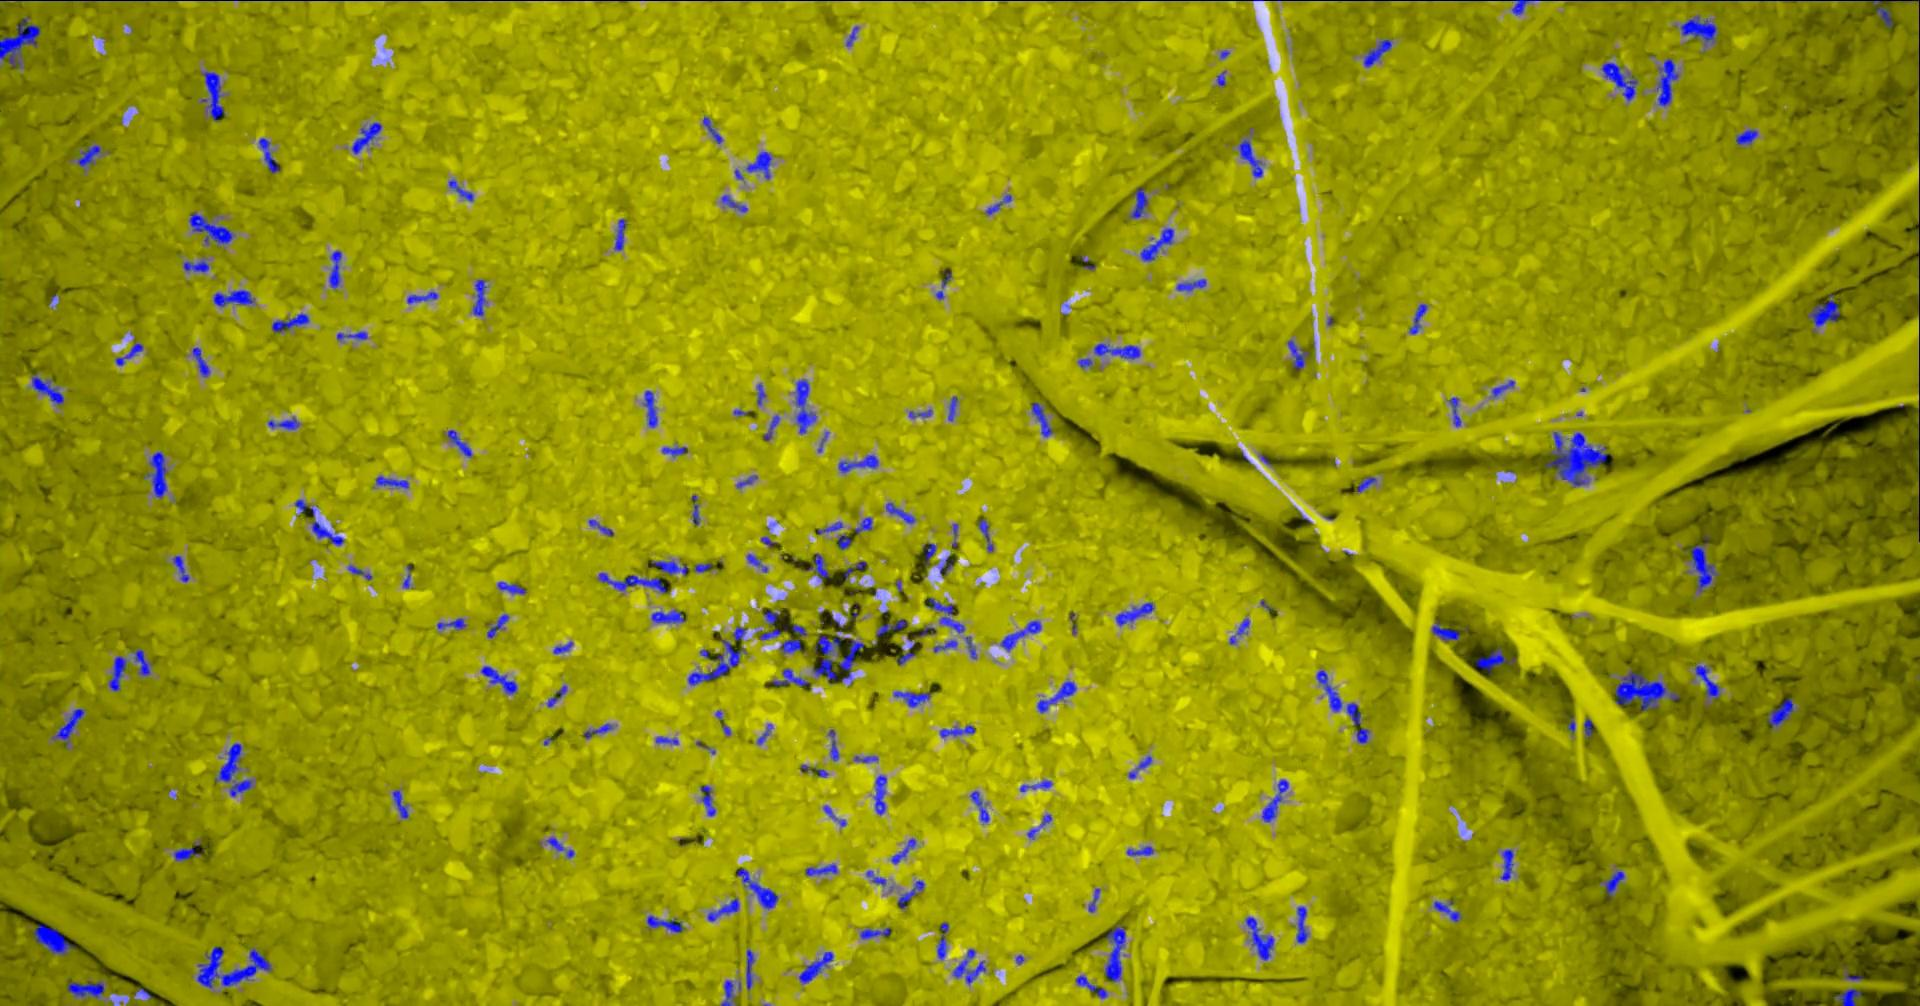ant: (687, 639, 744, 685), (295, 499, 343, 545), (0, 15, 41, 67), (215, 743, 251, 796), (811, 634, 848, 683), (735, 868, 777, 909), (1685, 544, 1716, 592), (189, 211, 234, 244), (1865, 0, 1919, 27), (598, 572, 665, 592), (1601, 62, 1637, 100), (926, 597, 964, 633), (32, 923, 74, 954), (1001, 620, 1040, 652), (1244, 916, 1272, 960), (952, 948, 985, 984), (1037, 681, 1076, 713), (52, 708, 84, 746), (1103, 925, 1125, 981), (201, 71, 225, 121), (795, 379, 817, 433), (797, 951, 833, 983), (1261, 779, 1288, 821), (1140, 227, 1173, 260), (143, 451, 166, 498), (1316, 669, 1341, 711), (1476, 647, 1515, 673), (1807, 293, 1839, 326), (30, 373, 63, 405), (838, 639, 863, 680), (1656, 58, 1677, 105), (480, 666, 516, 694), (1680, 15, 1716, 42), (350, 122, 381, 152), (1238, 138, 1262, 177), (1115, 602, 1154, 625), (1346, 702, 1368, 743), (1694, 666, 1719, 699), (897, 880, 924, 908), (1093, 343, 1140, 359), (707, 897, 739, 921), (838, 453, 877, 473), (1363, 39, 1390, 66), (803, 553, 829, 580), (1768, 697, 1793, 727), (258, 137, 279, 171), (270, 312, 309, 332), (1076, 976, 1107, 998), (1600, 870, 1624, 899), (1031, 401, 1051, 436), (745, 151, 771, 178), (1431, 621, 1467, 640), (771, 668, 809, 686), (447, 429, 471, 457), (212, 290, 253, 306), (1288, 339, 1309, 370), (646, 915, 683, 932), (969, 790, 989, 822), (1026, 814, 1051, 840), (116, 342, 143, 365), (885, 502, 914, 523), (108, 655, 126, 690), (893, 691, 930, 708), (1432, 901, 1462, 921), (67, 981, 103, 997), (891, 838, 916, 862), (702, 116, 723, 144), (546, 837, 574, 857), (1129, 187, 1147, 218), (650, 560, 687, 575), (190, 347, 210, 376), (1128, 754, 1150, 779), (872, 775, 886, 814), (977, 518, 993, 551), (875, 619, 905, 636), (77, 144, 100, 166), (448, 179, 472, 201), (328, 250, 342, 287), (643, 390, 657, 427), (1410, 304, 1426, 334), (472, 279, 486, 315), (486, 614, 508, 636), (985, 194, 1011, 213), (700, 784, 715, 815), (935, 269, 951, 298), (1832, 988, 1862, 1005), (173, 842, 199, 860), (1295, 906, 1308, 942), (546, 685, 566, 708), (822, 805, 844, 826), (651, 608, 684, 622), (721, 194, 747, 212), (171, 555, 189, 580), (936, 922, 949, 958), (583, 723, 612, 738), (392, 789, 408, 818), (897, 641, 916, 664), (938, 725, 975, 737), (375, 475, 408, 488), (745, 553, 767, 572), (1491, 380, 1514, 398), (843, 560, 866, 578), (267, 417, 298, 429), (1500, 848, 1512, 880), (347, 564, 371, 580), (1511, 0, 1539, 14), (588, 520, 613, 535), (1018, 780, 1051, 791), (800, 763, 827, 777), (408, 291, 437, 304), (763, 415, 778, 439), (805, 864, 837, 875), (858, 927, 890, 939), (1448, 398, 1460, 426), (497, 580, 524, 593), (135, 649, 149, 674), (1175, 278, 1205, 290), (436, 617, 465, 629), (756, 723, 771, 744), (615, 218, 625, 250), (817, 521, 842, 533), (1735, 130, 1757, 144), (921, 542, 935, 565), (778, 638, 801, 652), (1356, 476, 1377, 492), (828, 729, 838, 760), (745, 949, 753, 989), (933, 639, 957, 652), (720, 981, 733, 1005), (938, 554, 952, 575), (853, 517, 871, 533), (183, 260, 208, 272), (866, 870, 885, 885), (964, 636, 977, 658), (337, 332, 367, 340), (783, 624, 806, 635), (758, 627, 780, 639), (947, 396, 957, 420), (662, 446, 686, 456), (1088, 888, 1098, 912), (737, 474, 756, 486), (1126, 846, 1153, 855), (763, 610, 778, 625), (691, 495, 698, 525), (552, 641, 571, 653), (837, 533, 851, 549), (1236, 619, 1250, 634), (731, 625, 745, 640), (914, 626, 935, 636), (908, 409, 931, 418), (655, 735, 678, 744), (756, 384, 764, 404), (693, 561, 711, 572), (1583, 718, 1592, 737), (1917, 422, 1919, 479)
